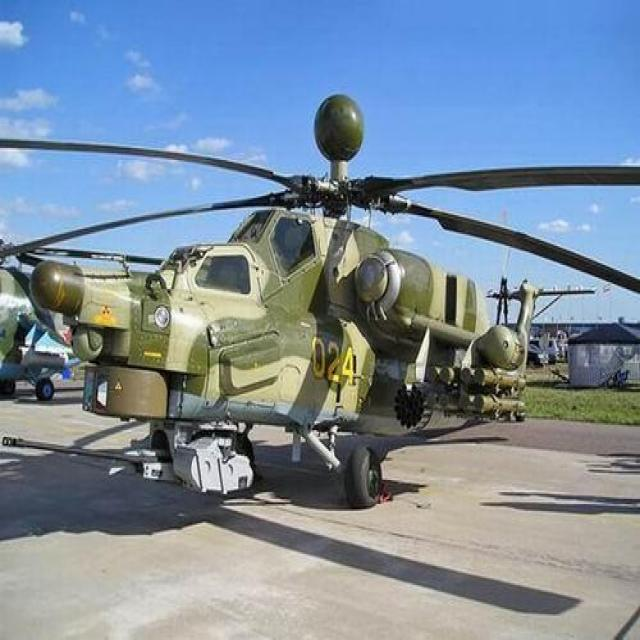MIL_HELO: (6, 93, 640, 508)
